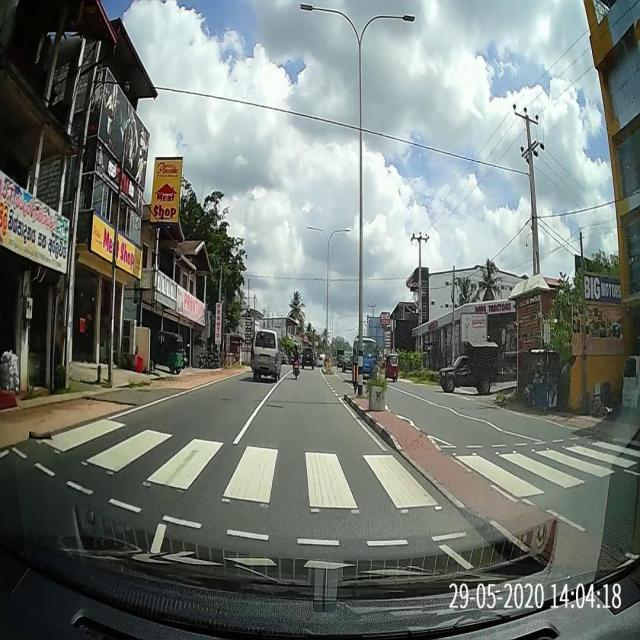Crosswalk: (5, 414, 640, 554)
